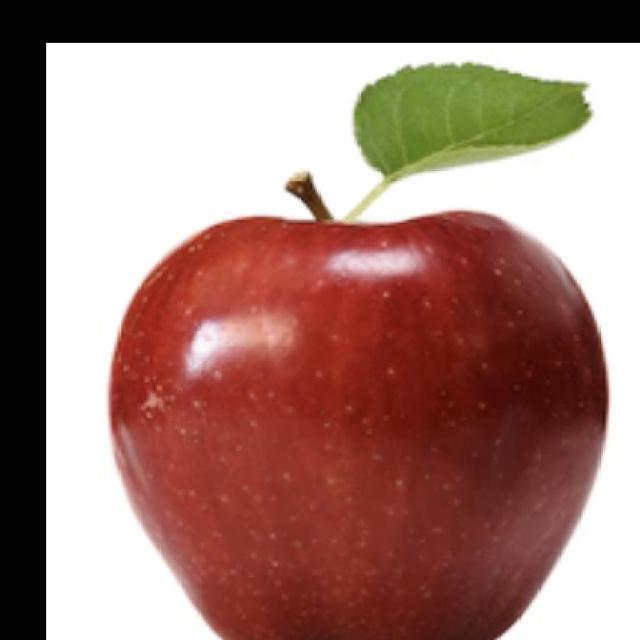Fresh Apple: (118, 213, 611, 640)
